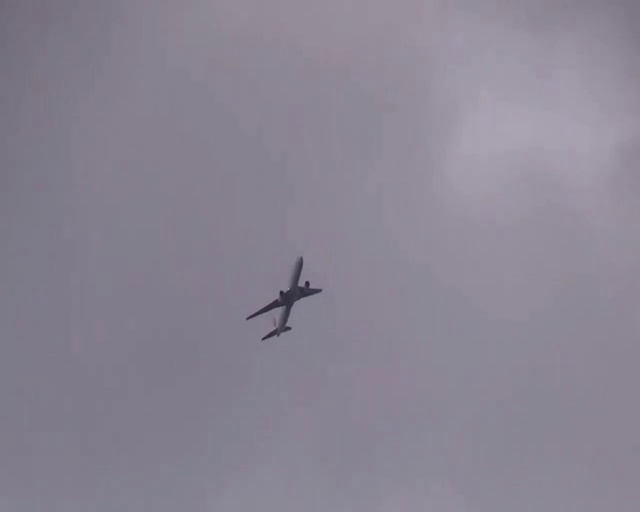AIRPLANE: (246, 255, 321, 341)
